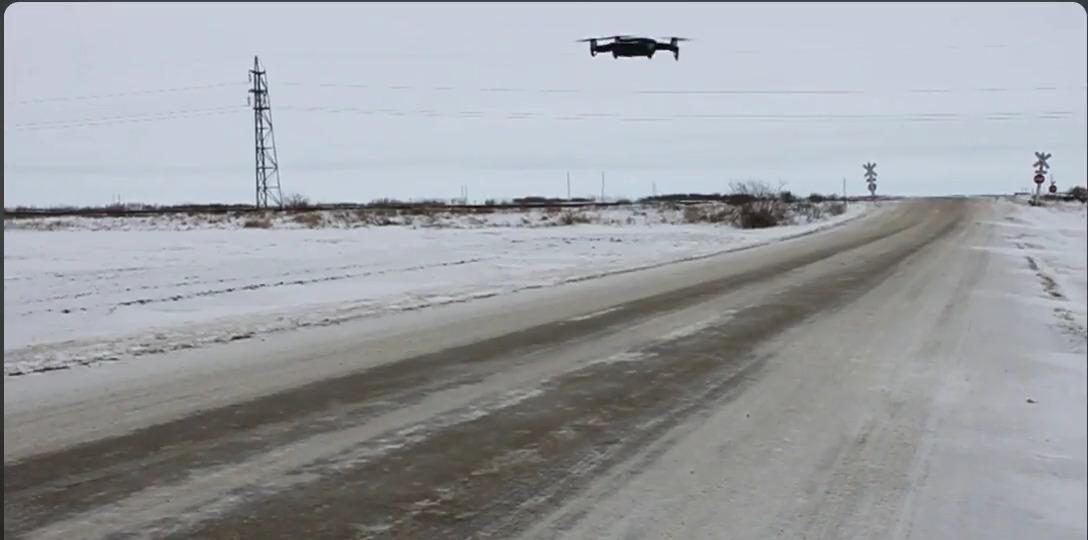dr: (553, 16, 716, 75)
